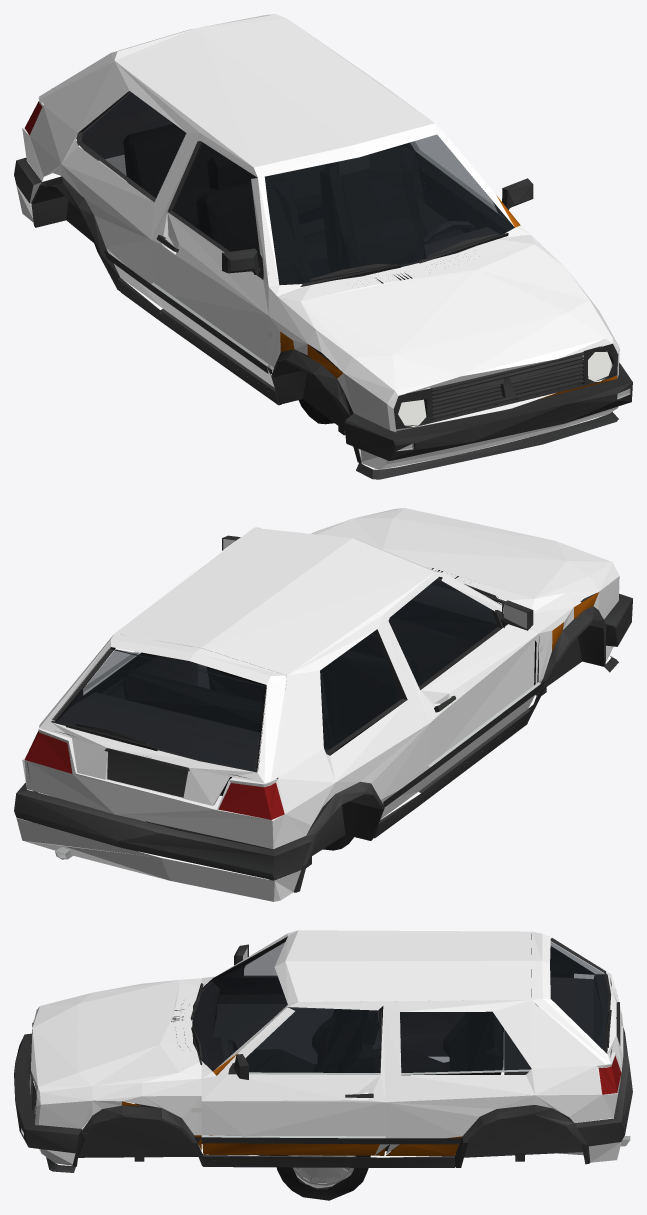
File: golf_far.glb
3 views of the same model, one above another, from view 1: azimuth 30°, elevation 25°; view 2: azimuth 150°, elevation 25°; view 3: azimuth 270°, elevation 25° (orthographic). The views are drawn at different scales.
Parts seen in each view (by area): view 1: body_paint, body_trim, body_glass, doorR_paint, doorR_glass, doorL_trim, doorR_trim, doorL_glass, body_head, doorL_paint; view 2: body_paint, body_trim, body_glass, doorR_paint, doorR_glass, doorR_trim, body_brake, doorL_trim, doorR_chrome; view 3: body_paint, body_trim, body_glass, doorL_paint, doorL_glass, doorR_trim, doorL_trim, wheel_rim, doorL_chrome, body_brake, body_chrome.
Part boxes in pixels (x1,y1,x2,y2): body_paint: (16,14,619,469); body_trim: (14,91,632,479); body_glass: (82,92,489,281); doorR_paint: (151,134,303,387); doorR_glass: (172,143,312,284); doorL_trim: (395,142,533,243); doorR_trim: (151,141,280,396); doorL_glass: (435,155,514,237); body_head: (268,331,611,426); doorL_paint: (444,133,529,237); body_paint: (16,508,619,901); body_trim: (14,568,632,892); body_glass: (56,632,402,770); doorR_paint: (384,573,539,791); doorR_glass: (389,578,497,686); doorR_trim: (388,598,540,797); body_brake: (24,731,284,819); doorL_trim: (156,535,240,689); doorR_chrome: (428,603,540,767); body_paint: (29,930,623,1165); body_trim: (14,934,632,1172); body_glass: (193,942,608,1072); doorL_paint: (201,1007,385,1154); doorL_glass: (203,1008,380,1072); doorR_trim: (202,940,383,1064); doorL_trim: (201,1046,385,1161); wheel_rim: (276,1155,370,1200); doorL_chrome: (201,1012,385,1138); body_brake: (598,1056,621,1094); body_chrome: (21,1020,630,1155).
Size of the model in its own units: 1.84 by 1.67 by 3.98.
